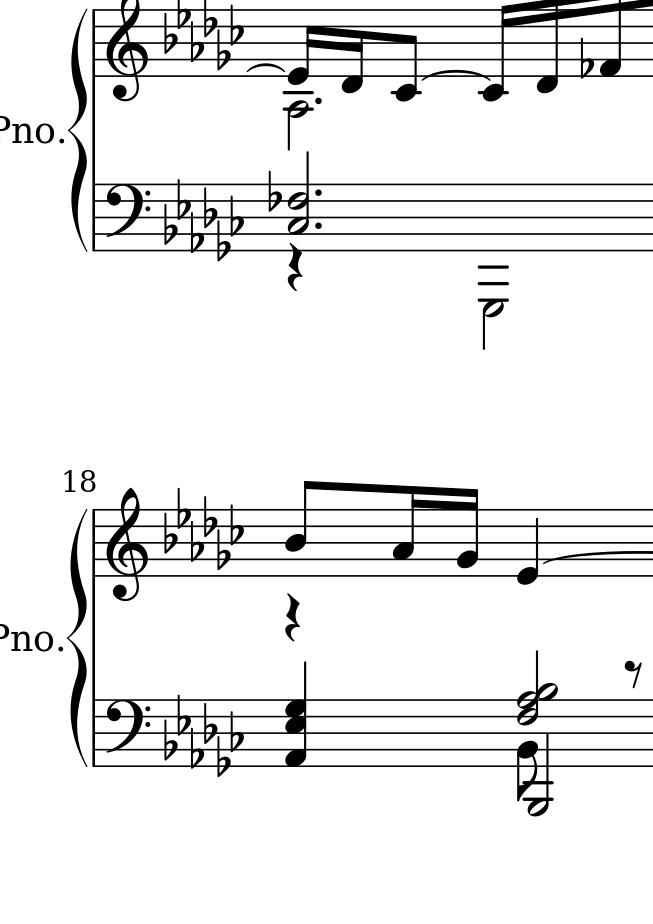1: (62, 467, 76, 494)
16_-1: (535, 1, 561, 95), (339, 7, 366, 96)
16_-2: (479, 1, 515, 105)
16_0: (285, 7, 318, 86)
16_2: (454, 486, 480, 579)
16_3: (391, 485, 422, 579)
2_-7: (479, 182, 509, 354)
2_3_6: (287, 151, 311, 253)
4_0: (515, 507, 542, 588)
4_th: (283, 657, 305, 770)
8: (79, 467, 96, 493)
8_-2: (392, 7, 423, 105)
8_4: (284, 479, 317, 578)
Brace: (69, 506, 91, 769), (68, 13, 89, 251)
Fclef: (103, 181, 151, 248), (103, 697, 151, 764)
Flat: (578, 36, 594, 81), (266, 168, 281, 214)
G_F: (162, 488, 243, 574), (161, 180, 244, 263), (161, 694, 242, 779), (160, 1, 247, 69)
Gclef: (105, 486, 150, 602), (104, 1, 150, 103)
Pno: (1, 110, 56, 146)
Rests4: (282, 592, 303, 646), (285, 243, 304, 295)
Rests8: (623, 659, 643, 690)
Single_barline: (88, 510, 102, 576), (89, 8, 102, 77), (89, 184, 102, 250), (89, 700, 102, 764)
Slur: (420, 68, 491, 82), (246, 63, 284, 74)
dot: (311, 95, 325, 107), (311, 186, 323, 198), (312, 220, 323, 231)
